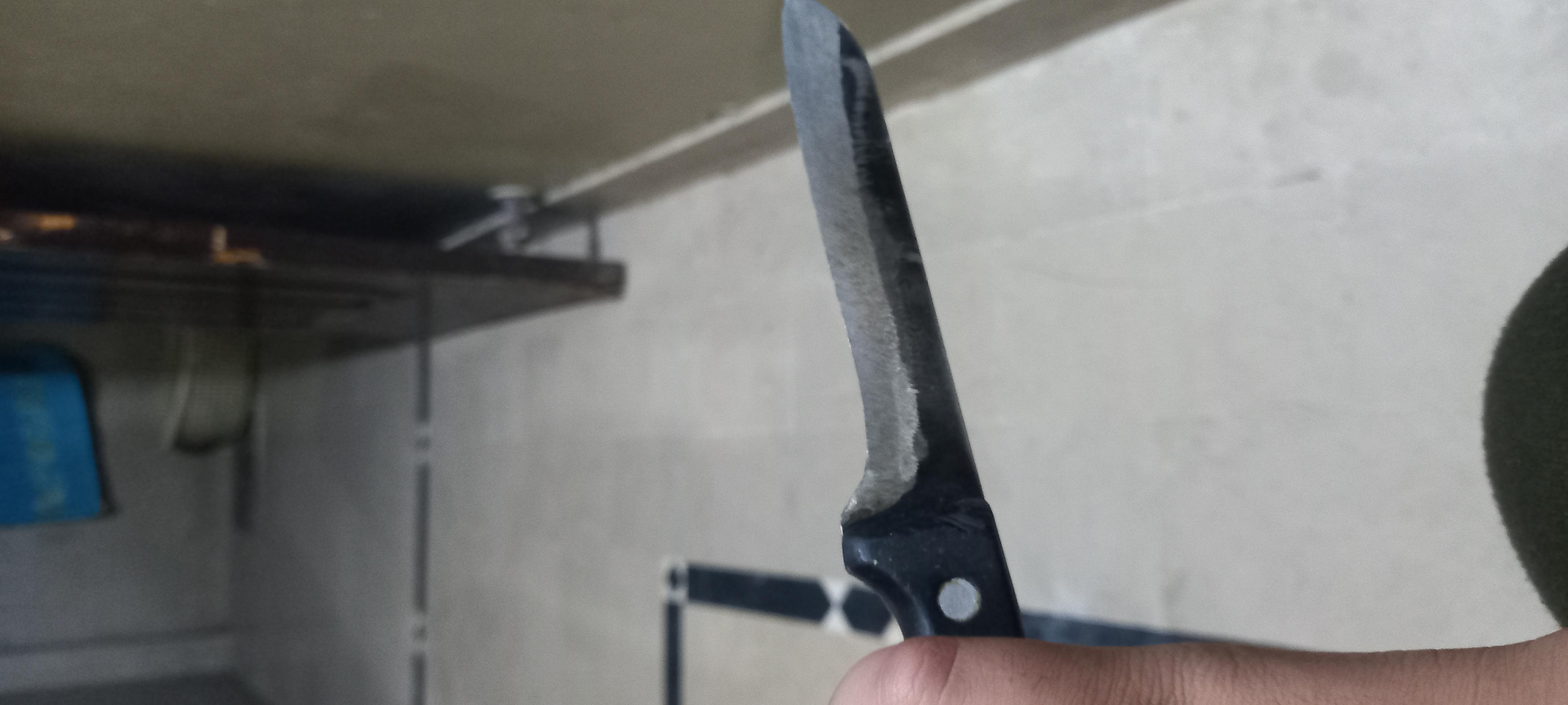knives: (1, 347, 1560, 460)
